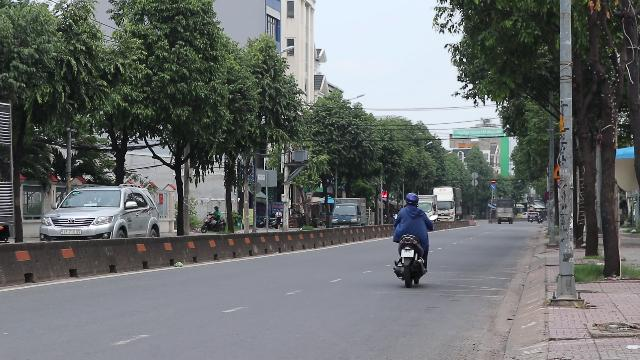helmet: (403, 192, 419, 210)
licenseplate: (401, 250, 413, 258)
motorcyclist: (390, 190, 436, 290)
